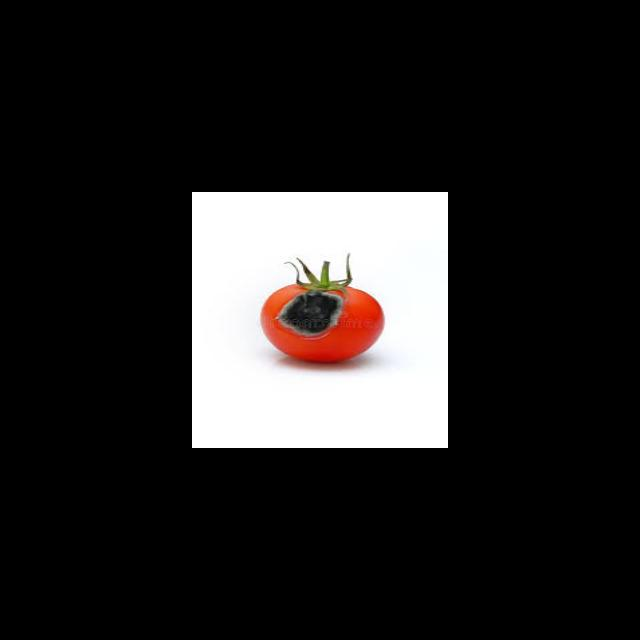tomato: (256, 257, 387, 372)
